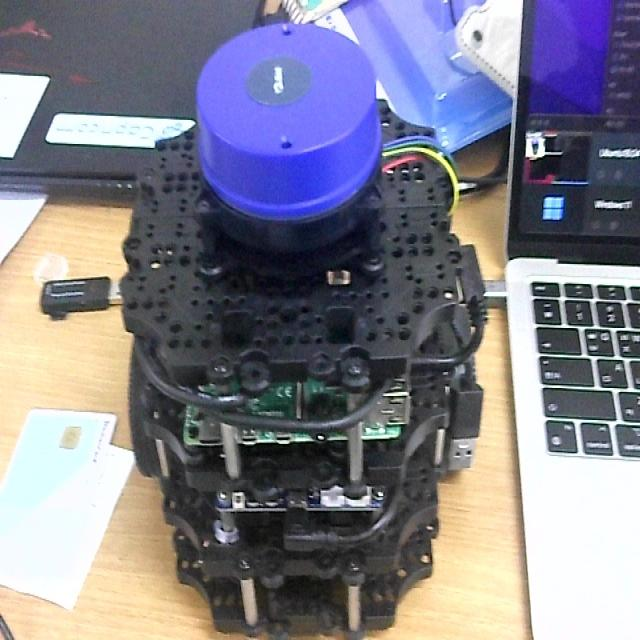turtle: (119, 19, 491, 640)
